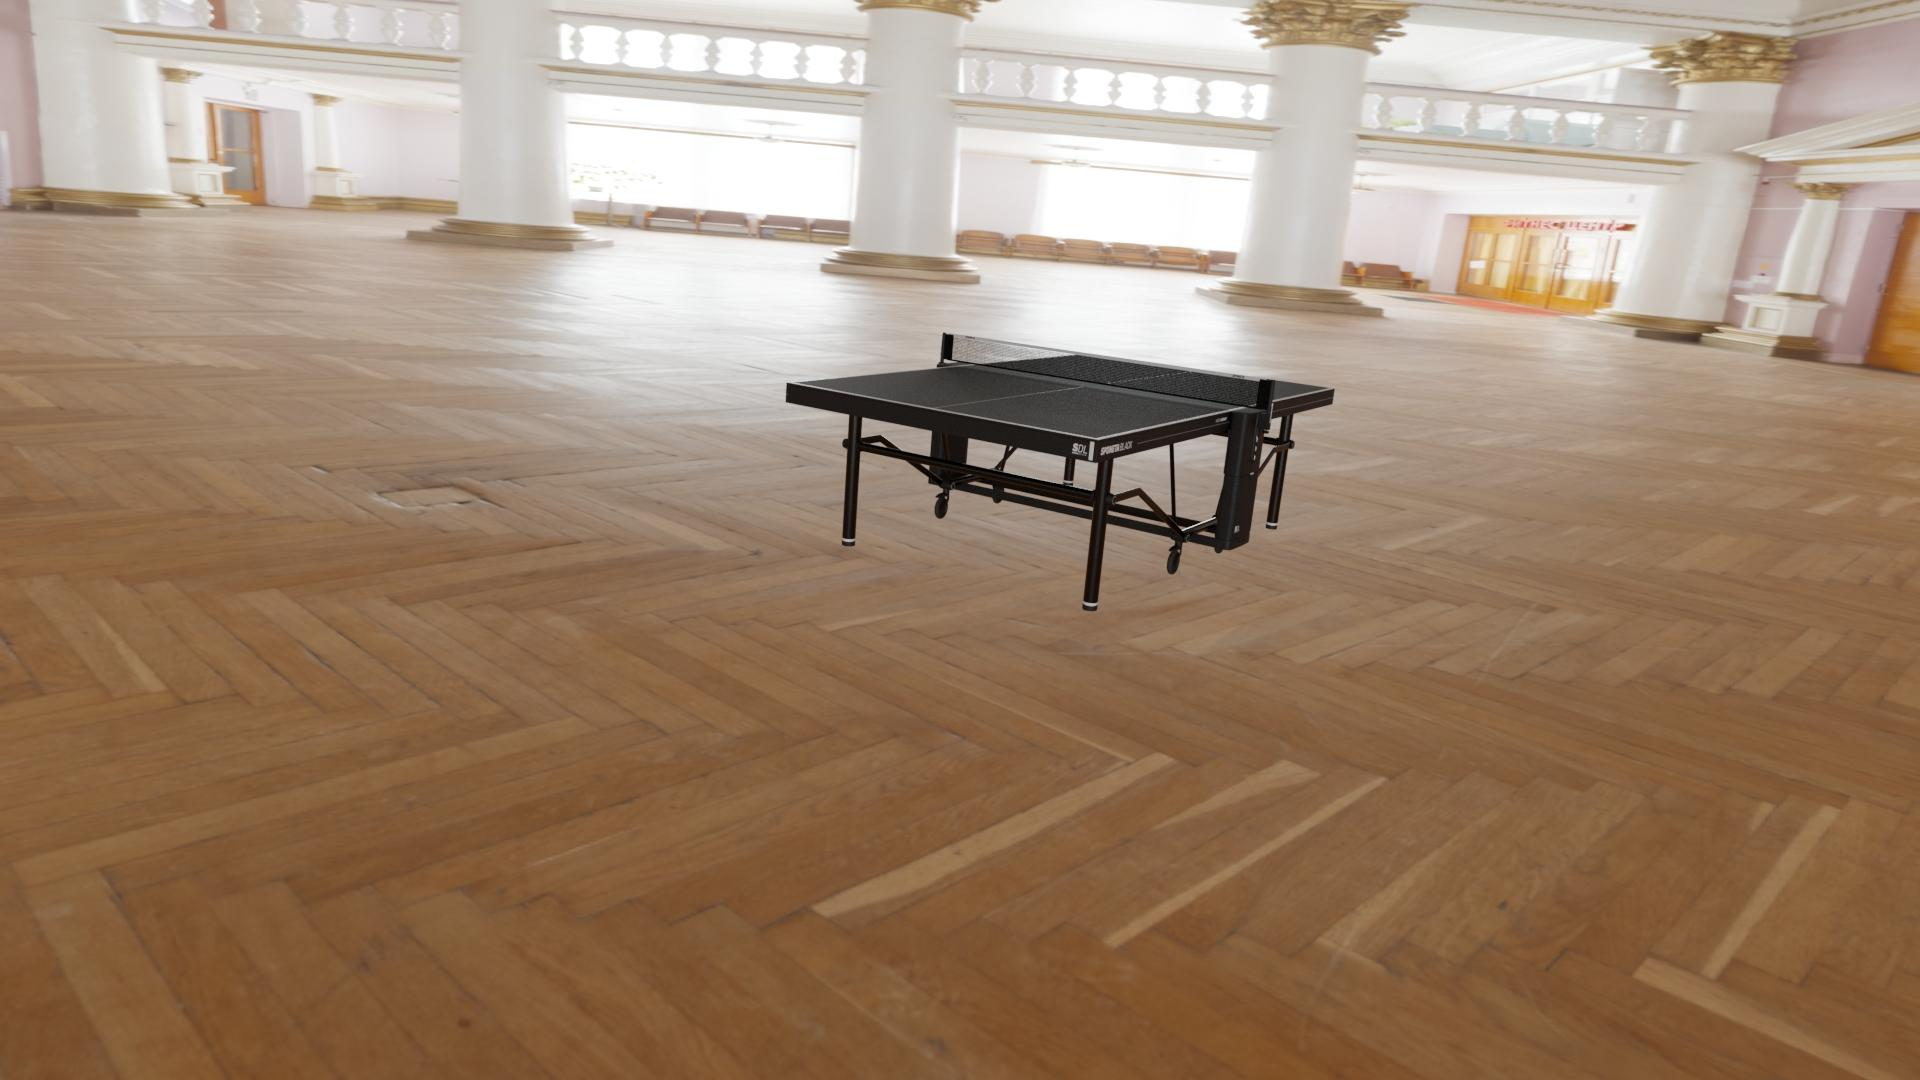table: (793, 353, 1331, 438)
